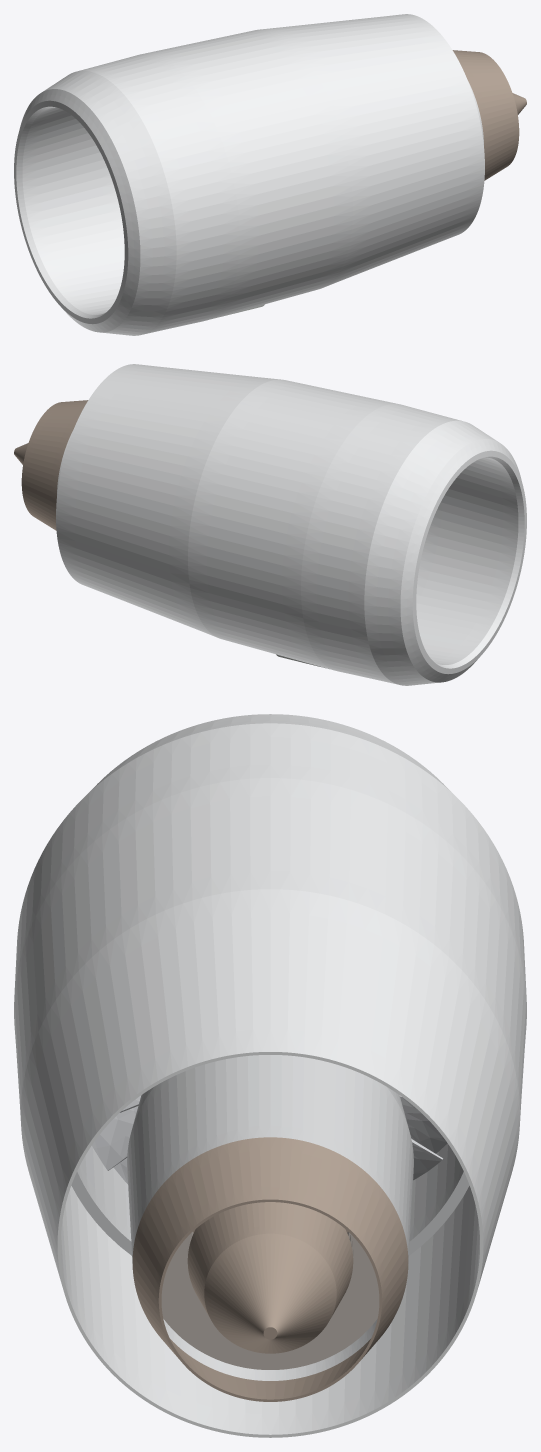
The picture shows the model from 3 angles, top to bottom: view 1: azimuth 30°, elevation 25°; view 2: azimuth 150°, elevation 25°; view 3: azimuth 270°, elevation 25°; orthographic projection. The views are drawn at different scales.
Visible parts, largest first — view 1: fan_cowl_reverser, inlet_cowl, core_nozzle; view 2: fan_cowl_reverser, inlet_cowl, core_nozzle; view 3: fan_cowl_reverser, inlet_cowl, core_cowl, core_nozzle, exhaust_plug, lp_turbine, fan_case, fan_rotor.
Part boxes in pixels (x1,y1,x2,y2): fan_cowl_reverser: (143,14,484,320); inlet_cowl: (14,54,239,335); core_nozzle: (452,50,519,180); fan_cowl_reverser: (56,364,397,670); inlet_cowl: (301,404,526,685); core_nozzle: (21,400,88,530); fan_cowl_reverser: (14,778,526,1437); inlet_cowl: (14,714,526,1138); core_cowl: (127,1055,413,1380); core_nozzle: (132,1137,408,1401); exhaust_plug: (187,1202,353,1353); lp_turbine: (161,1232,379,1369); fan_case: (71,1143,469,1255); fan_rotor: (92,1095,447,1183).
Size of the model in its own units: 3.56 by 1.91 by 1.86.
